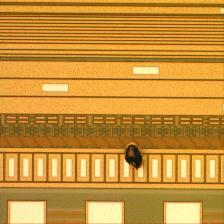PARTICLE: (118, 142, 150, 174)
